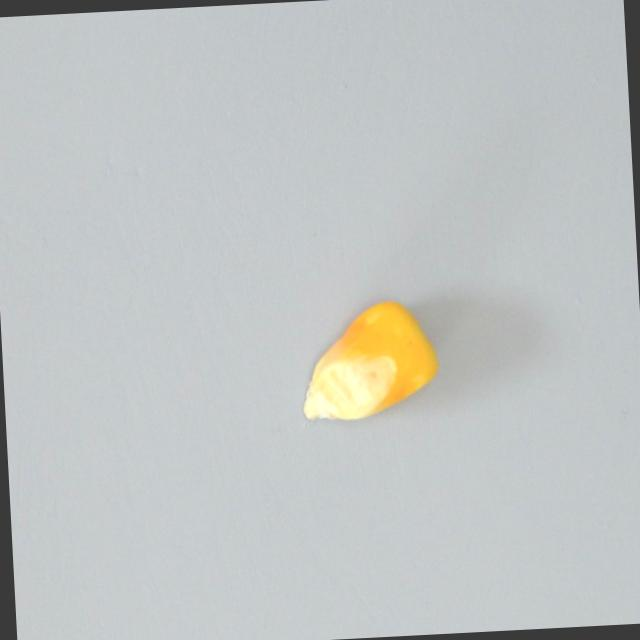entero: (292, 292, 445, 438)
